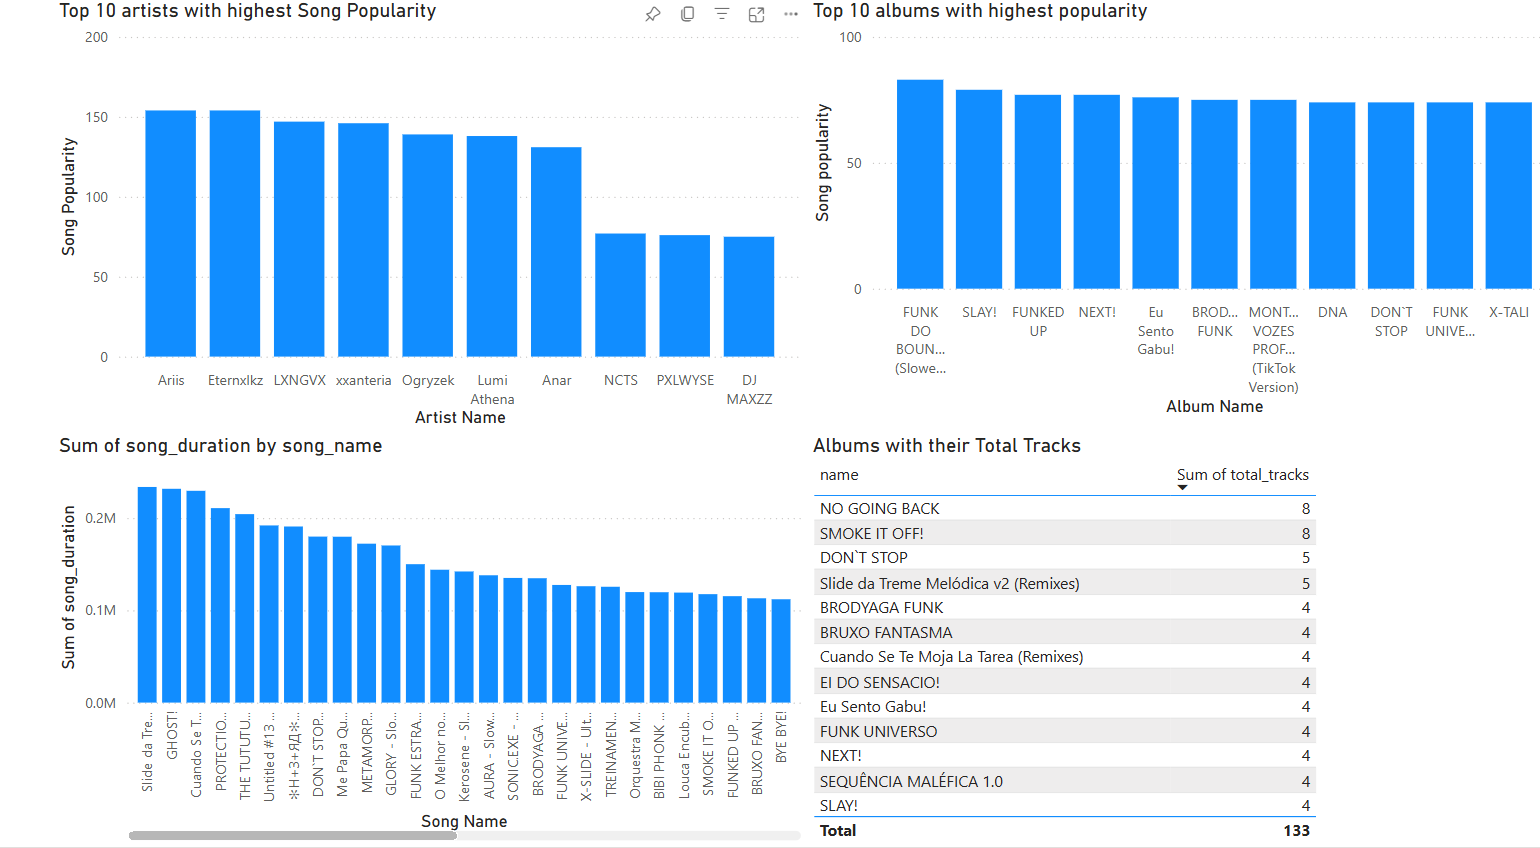

Layout of this report page (visuals, bound fields, positions):
{"tool":"powerbi","page":{"name":"Page 1","canvas":[1280,720],"ordinal":0},"visuals":[{"type":"columnChart","title":"Top 10 artists with highest Song Popularity","fields":{"Category":["tbl_artists.artist_name"],"Y":["tbl_songs.song_popularity"]},"box":[0,0,639.5,369.1],"z":0},{"type":"clusteredColumnChart","title":"Top 10 albums with highest popularity","fields":{"Y":["tbl_songs.song_popularity"],"Category":["tbl_album.name"]},"box":[639.5,0,640.8,359.5],"z":1000},{"type":"tableEx","title":"Albums with their Total Tracks","fields":{"Values":["tbl_album.name","tbl_album.total_tracks"]},"box":[639.5,368.6,640.7,351.2],"z":2000},{"type":"clusteredColumnChart","fields":{"Y":["tbl_songs.song_duration"],"Category":["tbl_songs.song_name"]},"box":[0,369.1,639.5,350.6],"z":3000}]}

Visuals, with their boxes on the page's 1280x720 design canvas (x1, y1, x2, y2). These are canvas units, not pixel positions in the 1540x848 screenshot, which may show the page scaled, cropped or inside an application window:
"Top 10 artists with highest Song Popularity" columnChart: region(0, 0, 640, 369)
"Top 10 albums with highest popularity" clusteredColumnChart: region(640, 0, 1280, 360)
"Albums with their Total Tracks" tableEx: region(640, 369, 1280, 720)
clusteredColumnChart - tbl_songs.song_duration x tbl_songs.song_name: region(0, 369, 640, 720)
